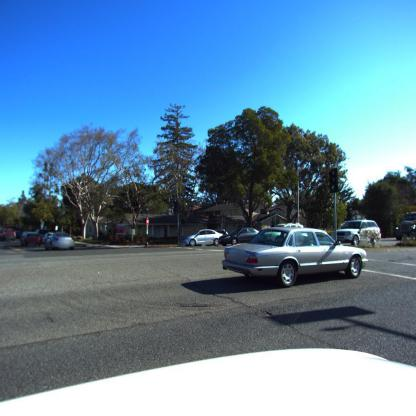car: (219, 227, 368, 287), (335, 220, 382, 248), (218, 226, 260, 246), (182, 230, 225, 247), (43, 232, 74, 250), (21, 232, 44, 246), (1, 229, 16, 242)
traffic light: (328, 168, 338, 193)
truck: (395, 212, 416, 244)
